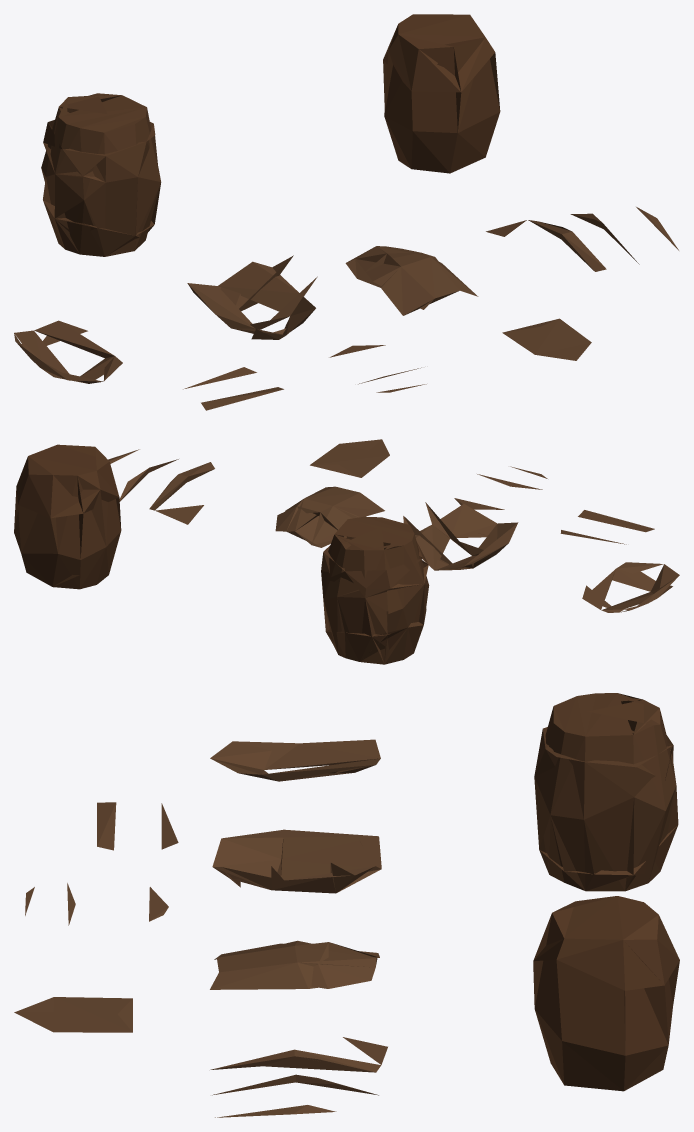
File: barrels-broken-lod1.glb
The picture shows the model from 3 angles, top to bottom: view 1: azimuth 30°, elevation 25°; view 2: azimuth 150°, elevation 25°; view 3: azimuth 270°, elevation 25°; orthographic projection. The views are drawn at different scales.
Size of the model in its own units: 4.39 by 0.9037 by 3.35.
